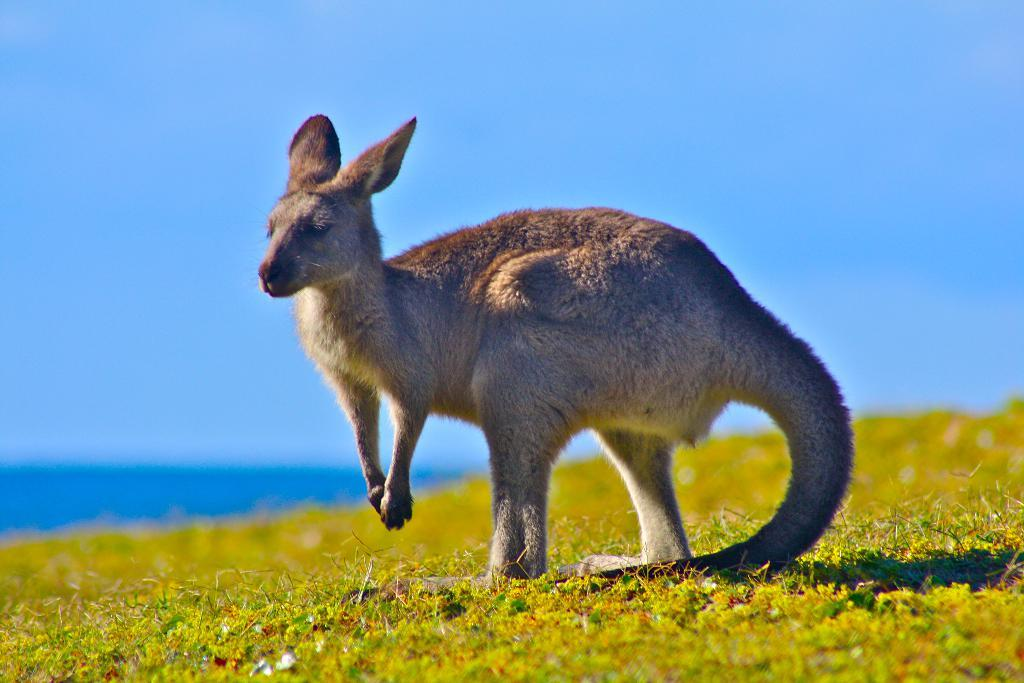kangaroo: (254, 105, 860, 584)
